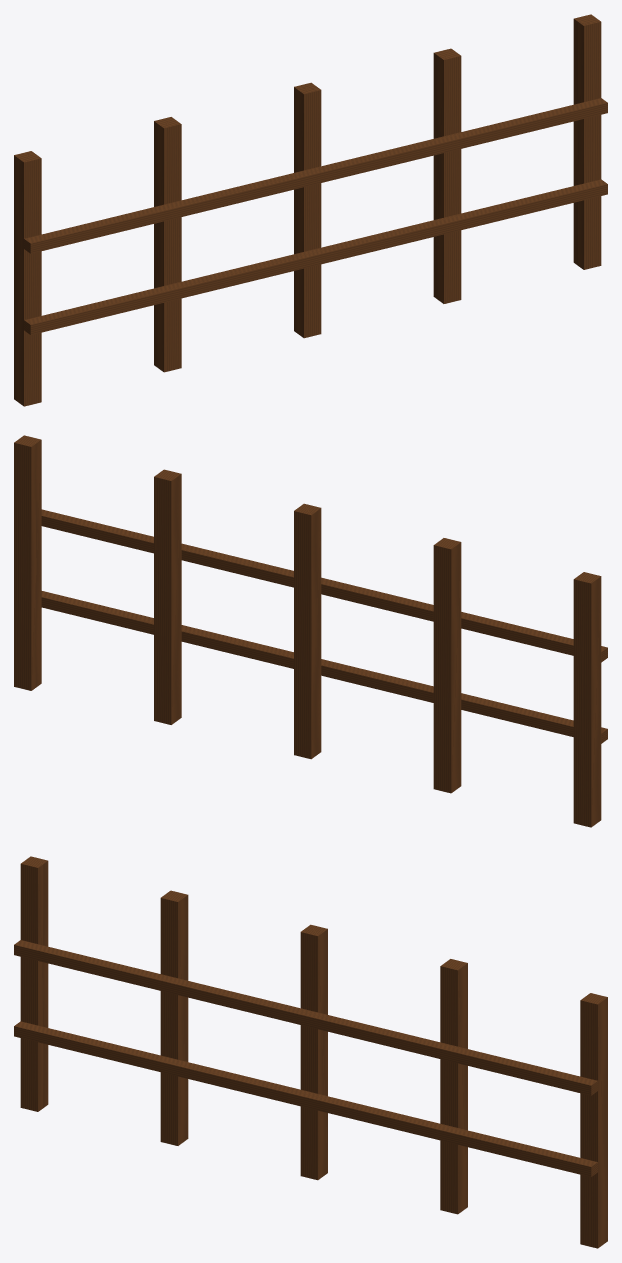
File: palisade.glb
3 views of the same model, one above another, from view 1: azimuth 30°, elevation 25°; view 2: azimuth 150°, elevation 25°; view 3: azimuth 330°, elevation 25° (orthographic).
Visible parts, largest first — view 1: Rail_002, Rail_001, Post_001, Post_005, Post_004, Post_003, Post_002; view 2: Rail_002, Rail_001, Post_001, Post_002, Post_003, Post_004, Post_005; view 3: Rail_002, Rail_001, Post_005, Post_001, Post_002, Post_003, Post_004.
Part boxes in pixels (left/top/right/bottom): Rail_002: left=24, top=98, right=607, bottom=253; Rail_001: left=24, top=179, right=607, bottom=334; Post_001: left=14, top=151, right=41, bottom=406; Post_005: left=573, top=14, right=601, bottom=269; Post_004: left=433, top=48, right=461, bottom=303; Post_003: left=294, top=82, right=321, bottom=338; Post_002: left=154, top=117, right=181, bottom=372; Rail_002: left=41, top=509, right=607, bottom=662; Rail_001: left=41, top=591, right=607, bottom=743; Post_001: left=573, top=572, right=601, bottom=827; Post_002: left=433, top=538, right=461, bottom=793; Post_003: left=294, top=503, right=321, bottom=759; Post_004: left=154, top=469, right=181, bottom=724; Post_005: left=14, top=435, right=41, bottom=690; Rail_002: left=14, top=940, right=597, bottom=1095; Rail_001: left=14, top=1021, right=597, bottom=1176; Post_005: left=580, top=993, right=607, bottom=1248; Post_001: left=20, top=856, right=48, bottom=1111; Post_002: left=160, top=890, right=188, bottom=1145; Post_003: left=300, top=924, right=327, bottom=1180; Post_004: left=440, top=959, right=467, bottom=1214.
Size of the model in its own units: 4.95 by 2 by 0.249.
1 material, 1 textured.
